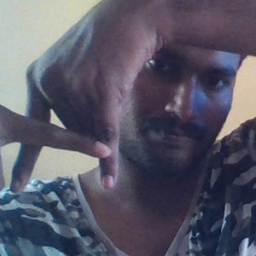H: (8, 87, 135, 204)
